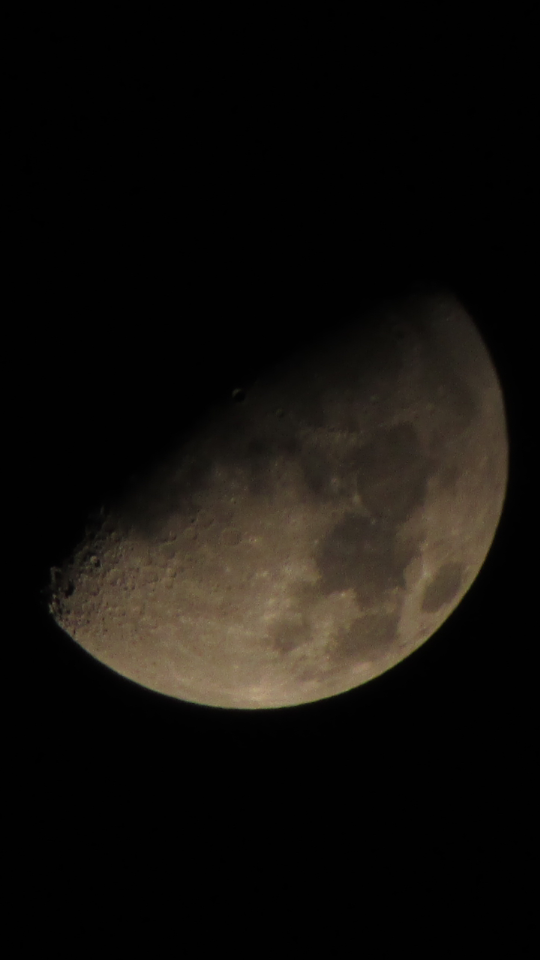crater: (218, 378, 251, 413), (184, 506, 215, 531), (220, 524, 245, 551), (55, 576, 79, 604), (106, 529, 133, 551), (415, 559, 436, 587), (273, 401, 293, 427), (86, 552, 103, 571), (333, 588, 351, 602)
